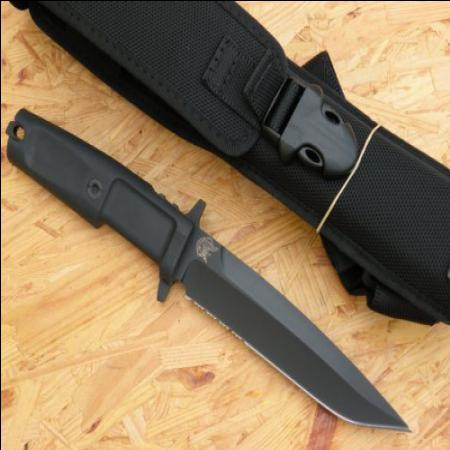long weapon: (152, 194, 416, 434)
